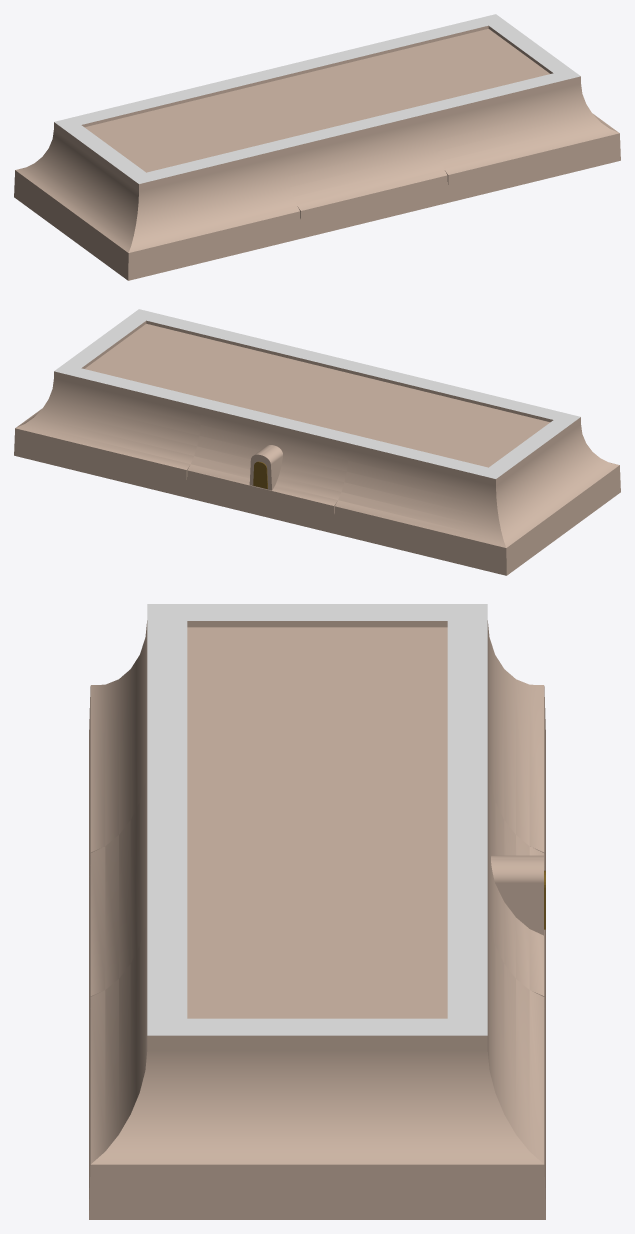
Rendered from House5.fbx.
3 views of the same model, one above another, from view 1: azimuth 30°, elevation 25°; view 2: azimuth 150°, elevation 25°; view 3: azimuth 270°, elevation 25° (orthographic). The views are drawn at different scales.
Parts seen in each view (by area): view 1: DCHouse_U.011, DCHouse_U.010, DCHouse_I.003; view 2: DCHouse_U.011, DCHouse_U.010, DCHouse_I.003, HouseDoor.007; view 3: DCHouse_U.010, DCHouse_U.011, DCHouse_I.003, HouseDoor.007.
Part boxes in pixels (x1,y1,x2,y2): DCHouse_U.011: [14, 86, 300, 280]; DCHouse_U.010: [349, 14, 620, 202]; DCHouse_I.003: [202, 50, 448, 238]; DCHouse_U.011: [333, 381, 620, 575]; DCHouse_U.010: [14, 309, 285, 497]; DCHouse_I.003: [187, 345, 432, 533]; HouseDoor.007: [249, 445, 282, 490]; DCHouse_U.010: [89, 891, 545, 1219]; DCHouse_U.011: [89, 604, 545, 897]; DCHouse_I.003: [89, 748, 545, 1041]; HouseDoor.007: [491, 855, 545, 935].
Size of the model in its own units: 502 by 77.66 by 202.
